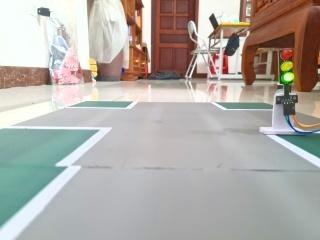green: (272, 43, 304, 101)
